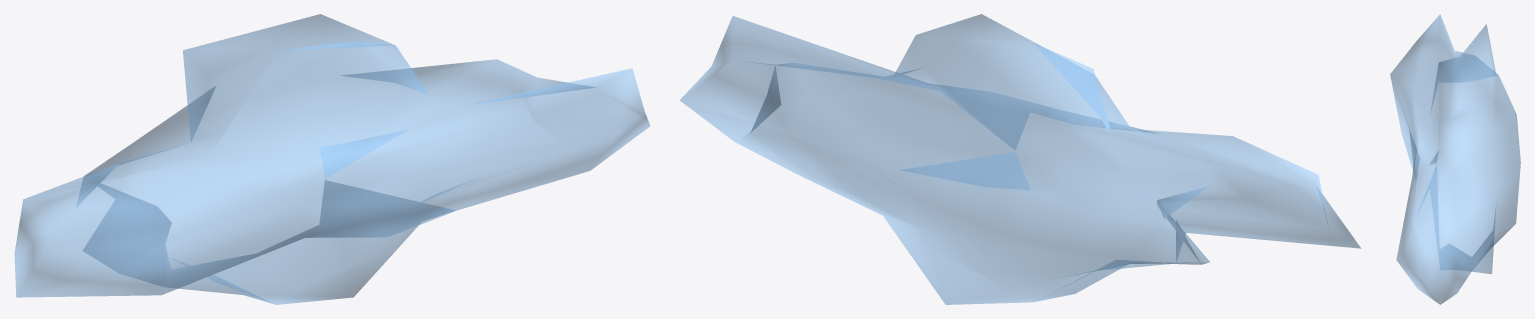
File: tpropulsion_shield.gltf
3 views of the same model, side by side, from view 1: azimuth 30°, elevation 25°; view 2: azimuth 150°, elevation 25°; view 3: azimuth 270°, elevation 25° (orthographic). The views are drawn at different scales.
Parts seen in each view (by area): view 1: tpropulsion.shield; view 2: tpropulsion.shield; view 3: tpropulsion.shield.
Boxes of the visible parts, <box> form: tpropulsion.shield: <box>14,14,649,304</box>; tpropulsion.shield: <box>680,14,1360,304</box>; tpropulsion.shield: <box>1390,14,1520,304</box>.
Bounding box in the file's own units: 22.84 × 8.82 × 5.27.
